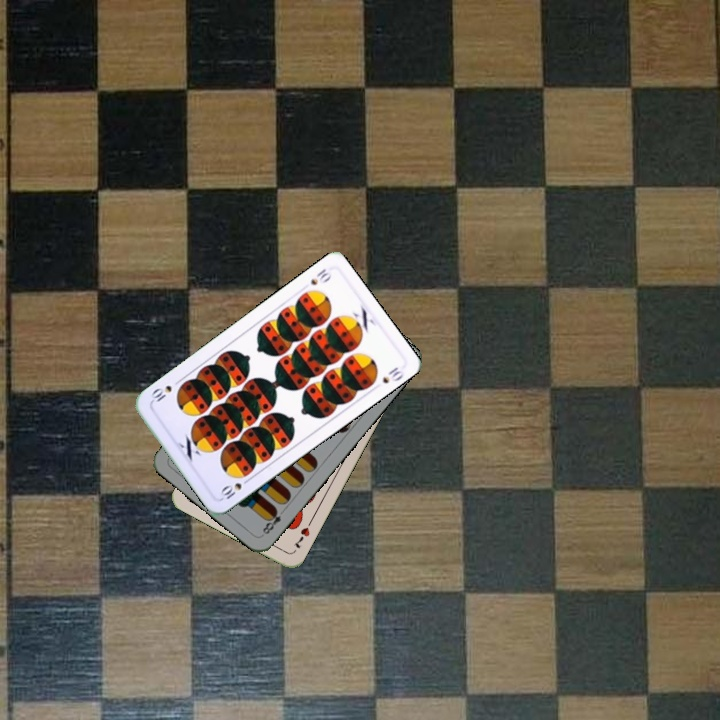E8: (258, 504, 288, 538)
H7: (289, 516, 314, 551)
S10: (216, 474, 253, 503), (306, 264, 334, 288)
